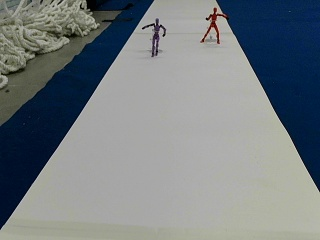pedestrian: (201, 5, 227, 44), (142, 18, 165, 55)
